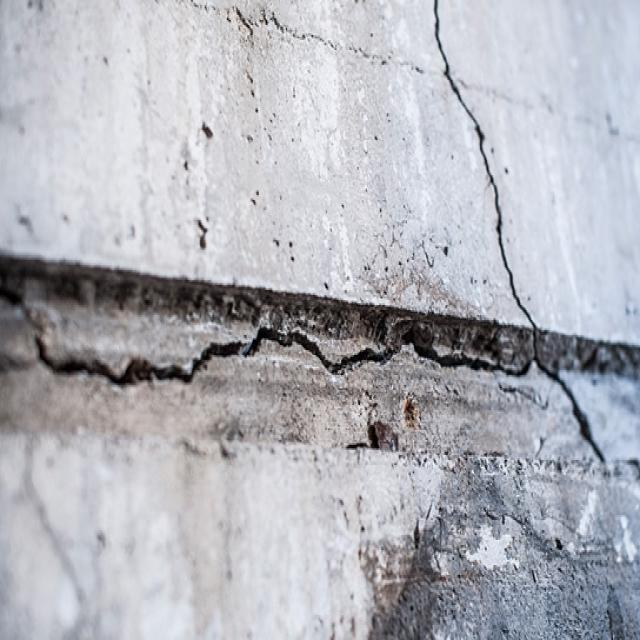Radial: (3, 0, 640, 472)
